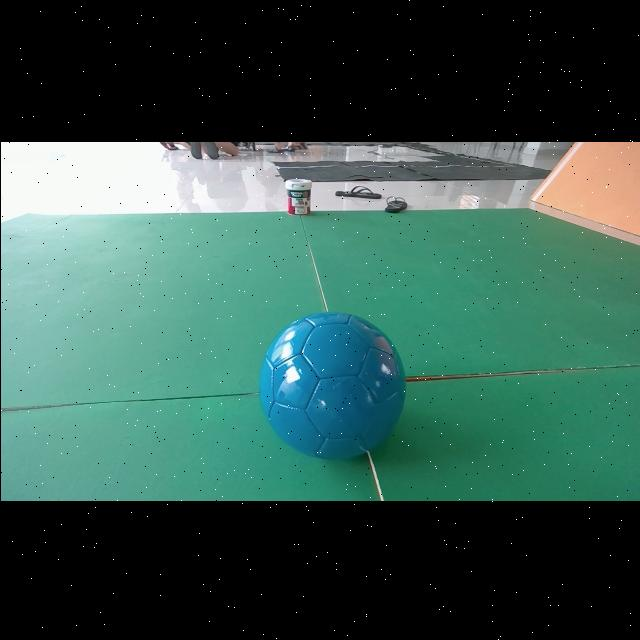B: (258, 310, 404, 458)
